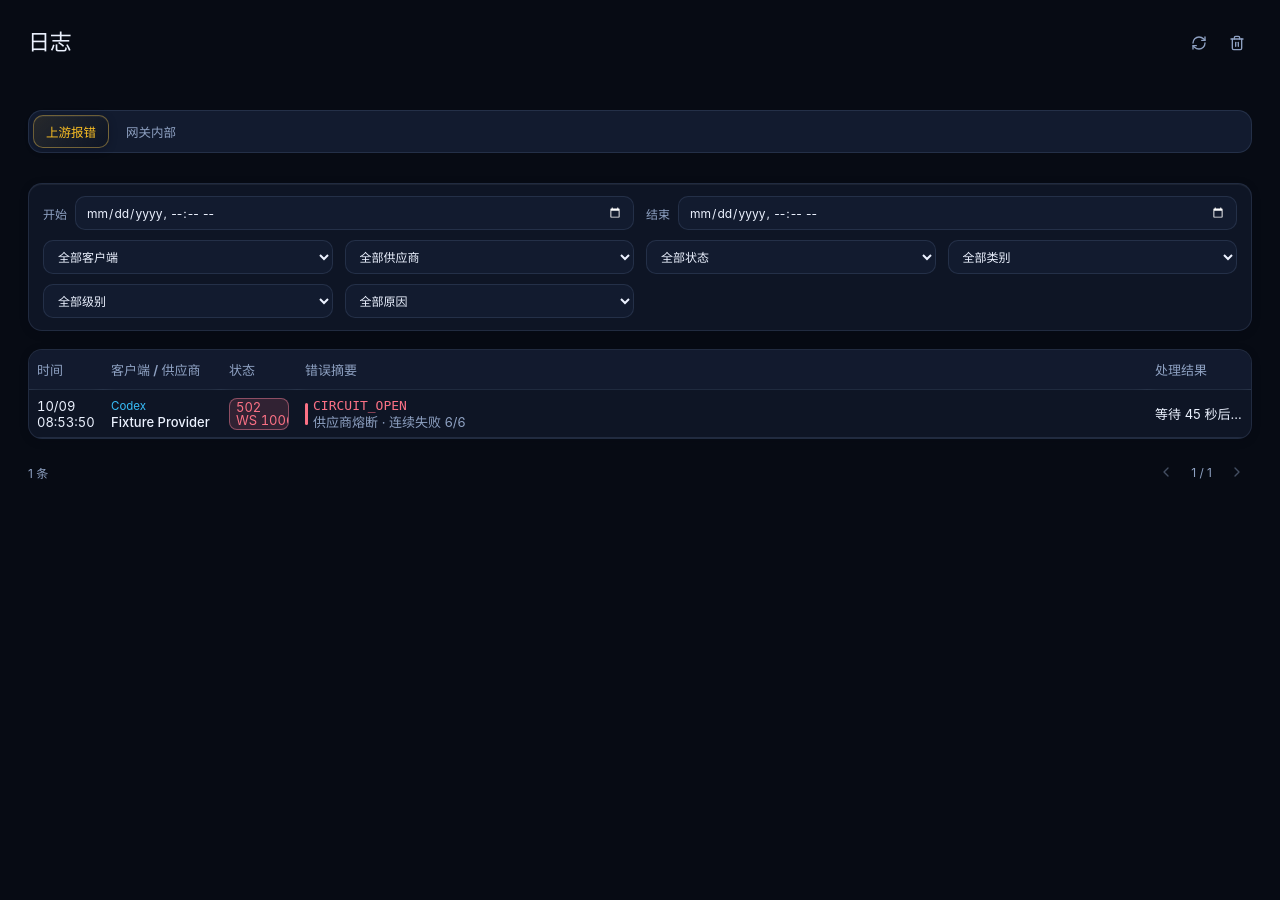
keeps HTTP status and WebSocket close code as separate detail values
The width and height of the screenshot is (1280, 900).
Click the button "CIRCUIT_OPEN 供应商熔断 · 连续失败 6/6".
click(360, 405)  # box x1=305 y1=398 x2=1139 y2=430
(page scrolled)
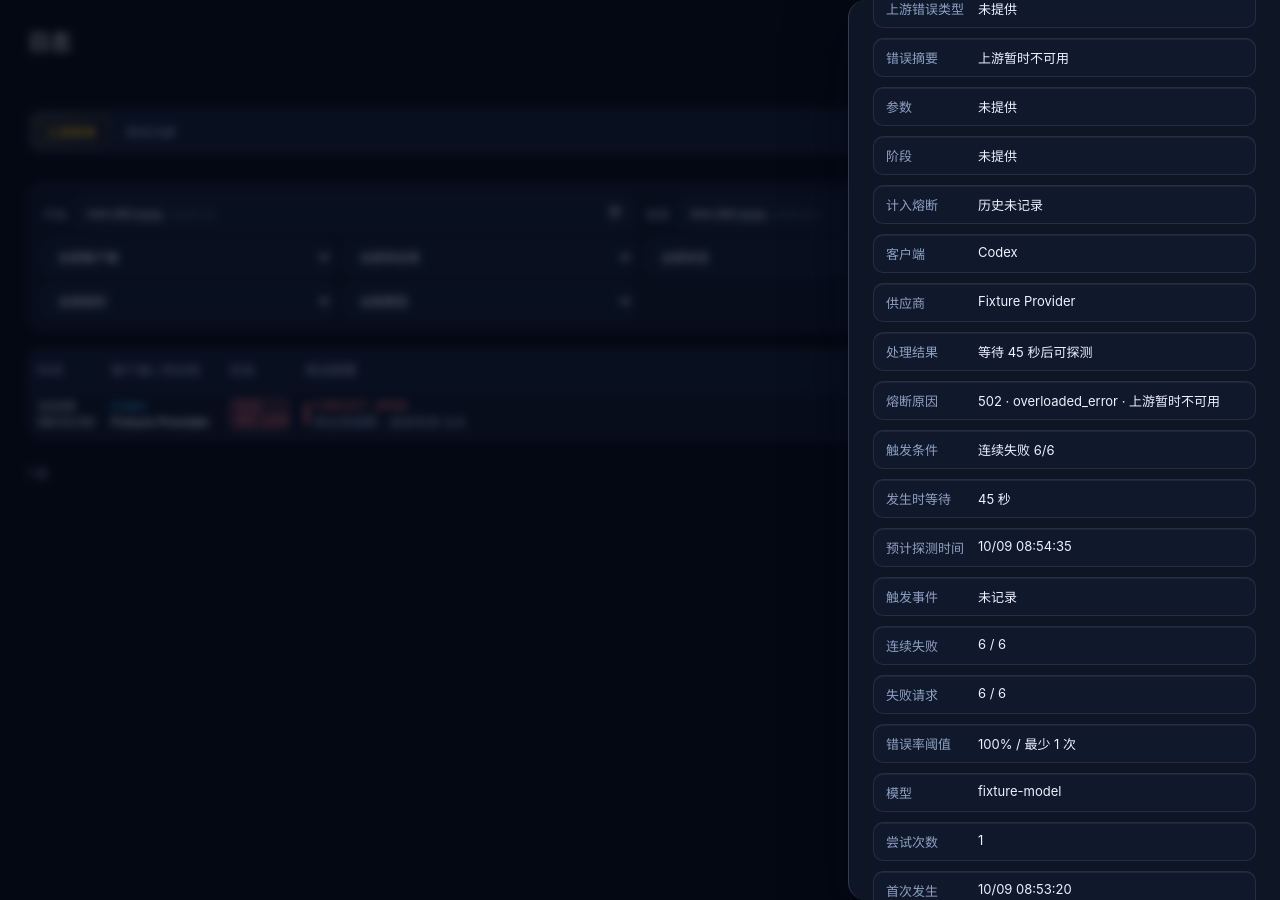
Check: the text "连续失败 6/6" is shown, box x1=978 y1=442 x2=1054 y2=458
